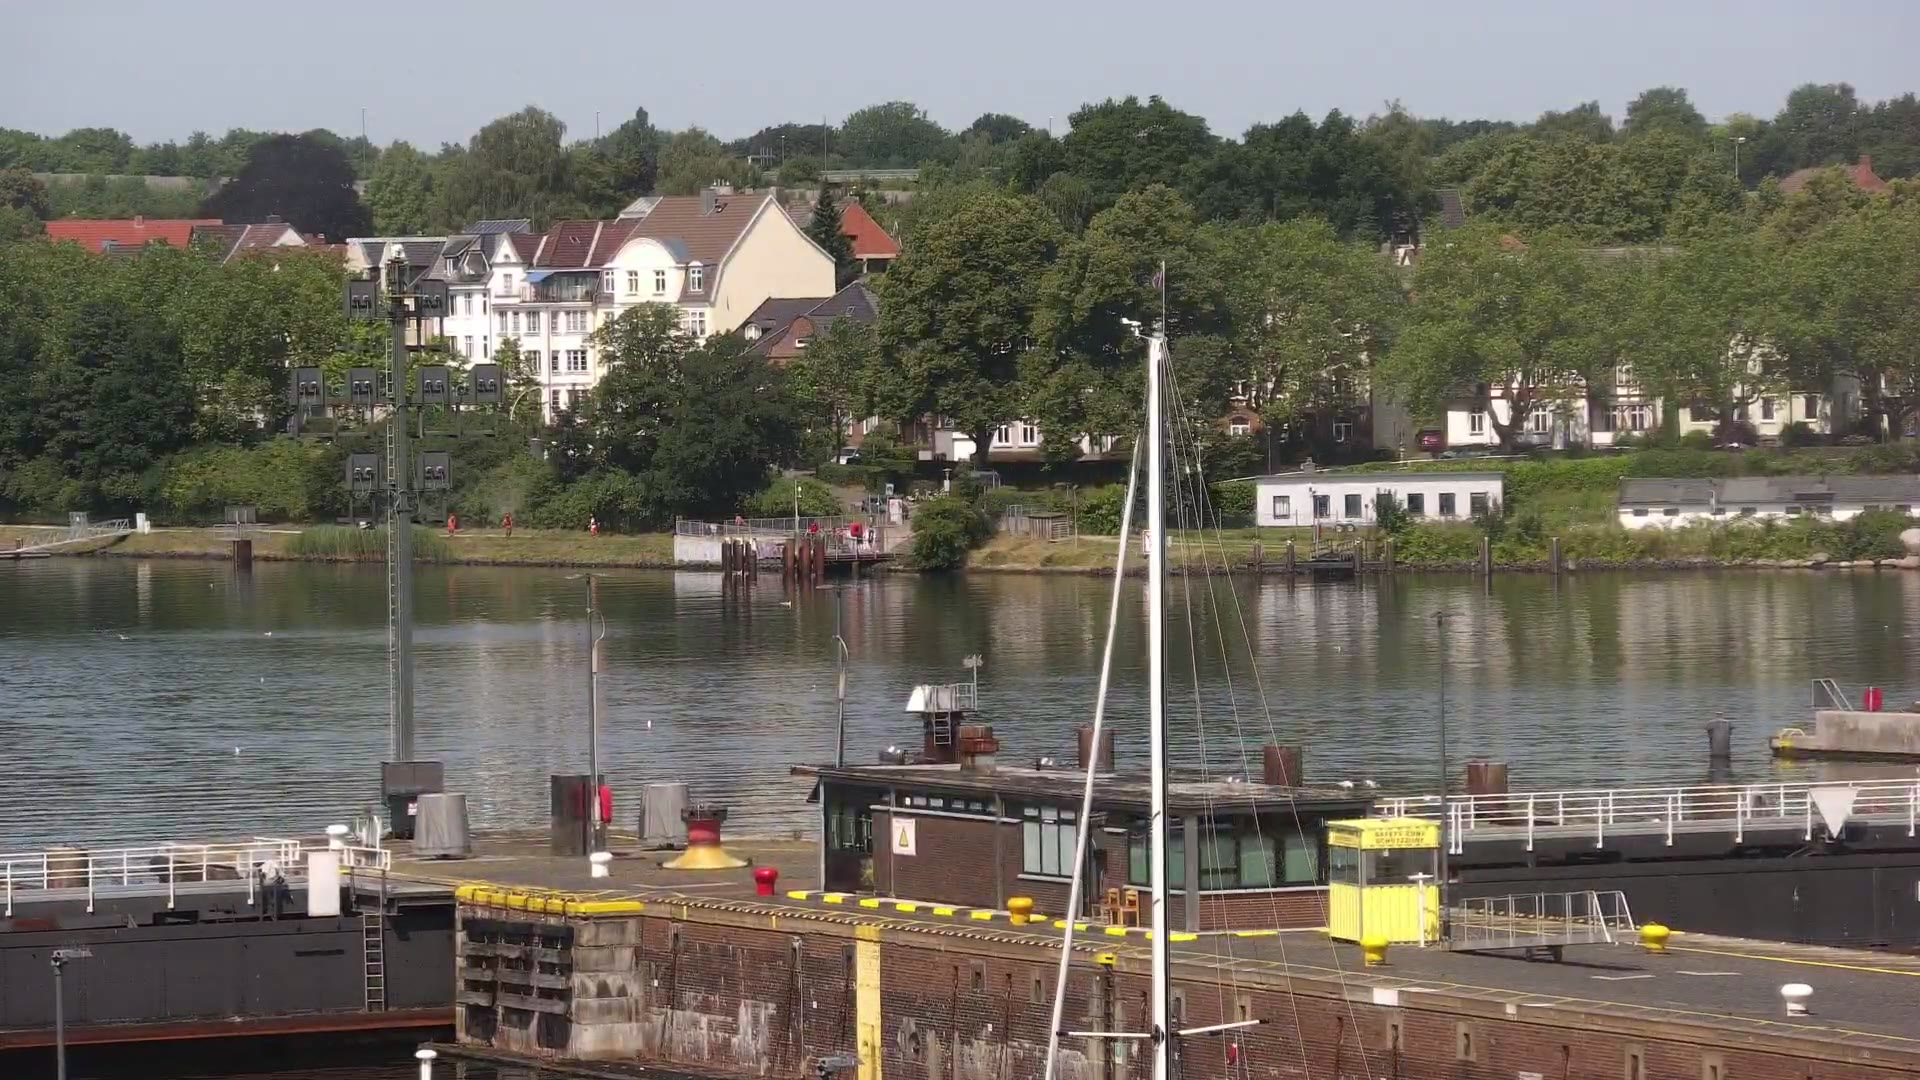human: (586, 511, 599, 539), (502, 513, 514, 539), (447, 511, 457, 536)
land: (861, 494, 910, 521), (1414, 424, 1445, 452), (830, 445, 859, 465)
sea: (1041, 260, 1377, 1080)
